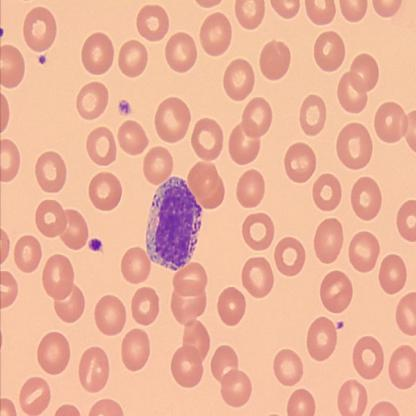Myelocyte: (144, 174, 203, 272)
